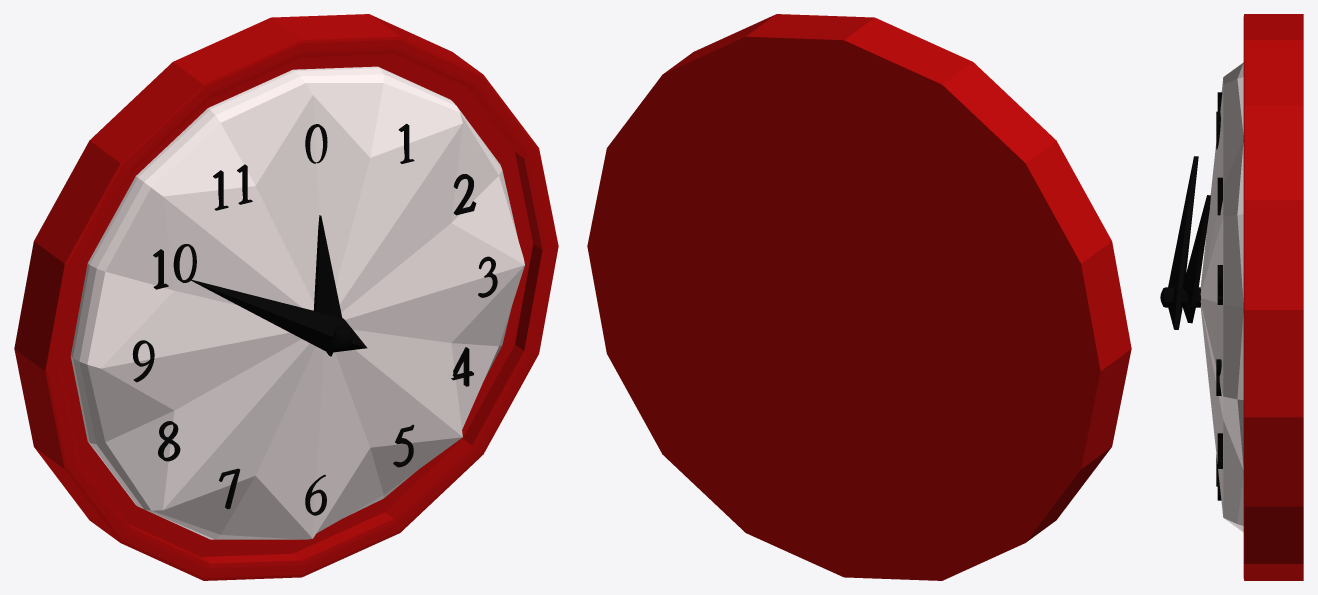
File: theme02_clock_red.fbx
3 renders of one model, left to right at view 1: azimuth 30°, elevation 25°; view 2: azimuth 150°, elevation 25°; view 3: azimuth 270°, elevation 25°, orthographic. The views are drawn at different scales.
Parts seen in each view (by area): view 1: clock_red; view 2: clock_red; view 3: clock_red.
Boxes of the visible parts, box(x1,y1,x2,y2) form: clock_red: box(14, 14, 558, 580); clock_red: box(587, 14, 1131, 580); clock_red: box(1160, 14, 1303, 580).
Size of the model in its own units: 196 by 196 by 49.6.
